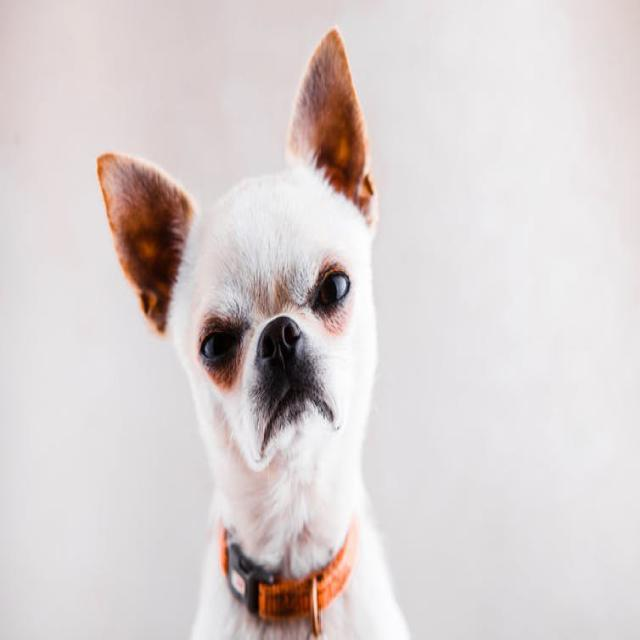Dog: (100, 33, 416, 640)
